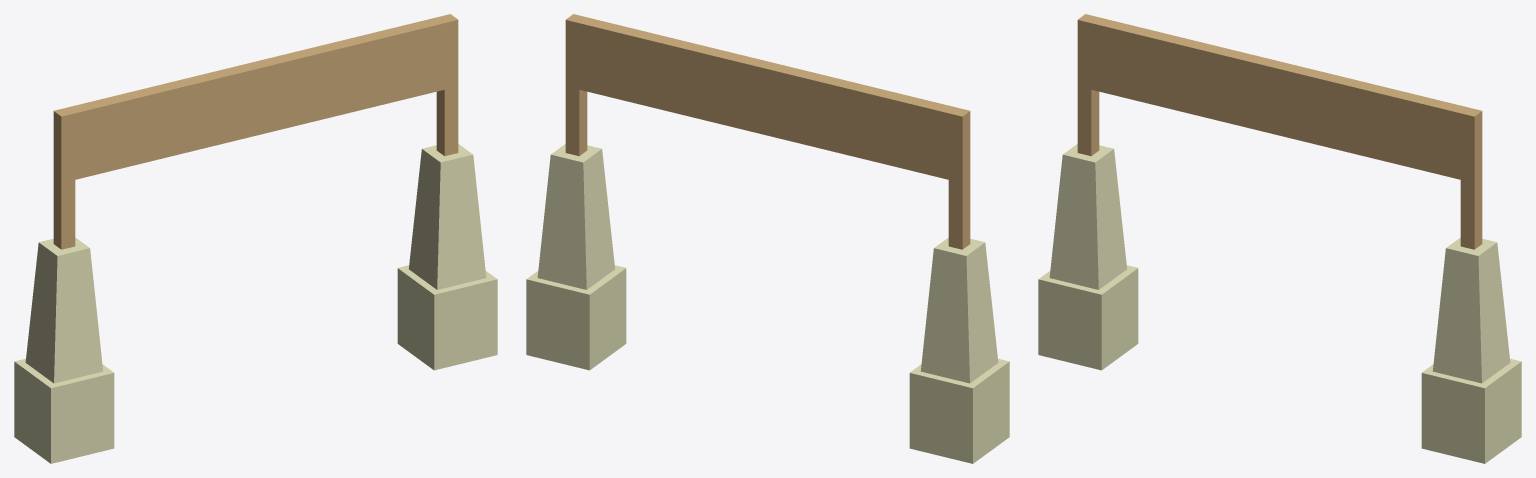
File: Gapura.fbx
3 views of the same model, side by side, from view 1: azimuth 30°, elevation 25°; view 2: azimuth 150°, elevation 25°; view 3: azimuth 330°, elevation 25° (orthographic).
Parts seen in each view (by area): view 1: Cube.007; view 2: Cube.007; view 3: Cube.007.
Part boxes in pixels (x1,y1,x2,y2): Cube.007: (14, 14, 497, 463); Cube.007: (526, 14, 1009, 463); Cube.007: (1038, 14, 1521, 463).
Bounding box in the file's own units: 1408 × 996 × 200.
